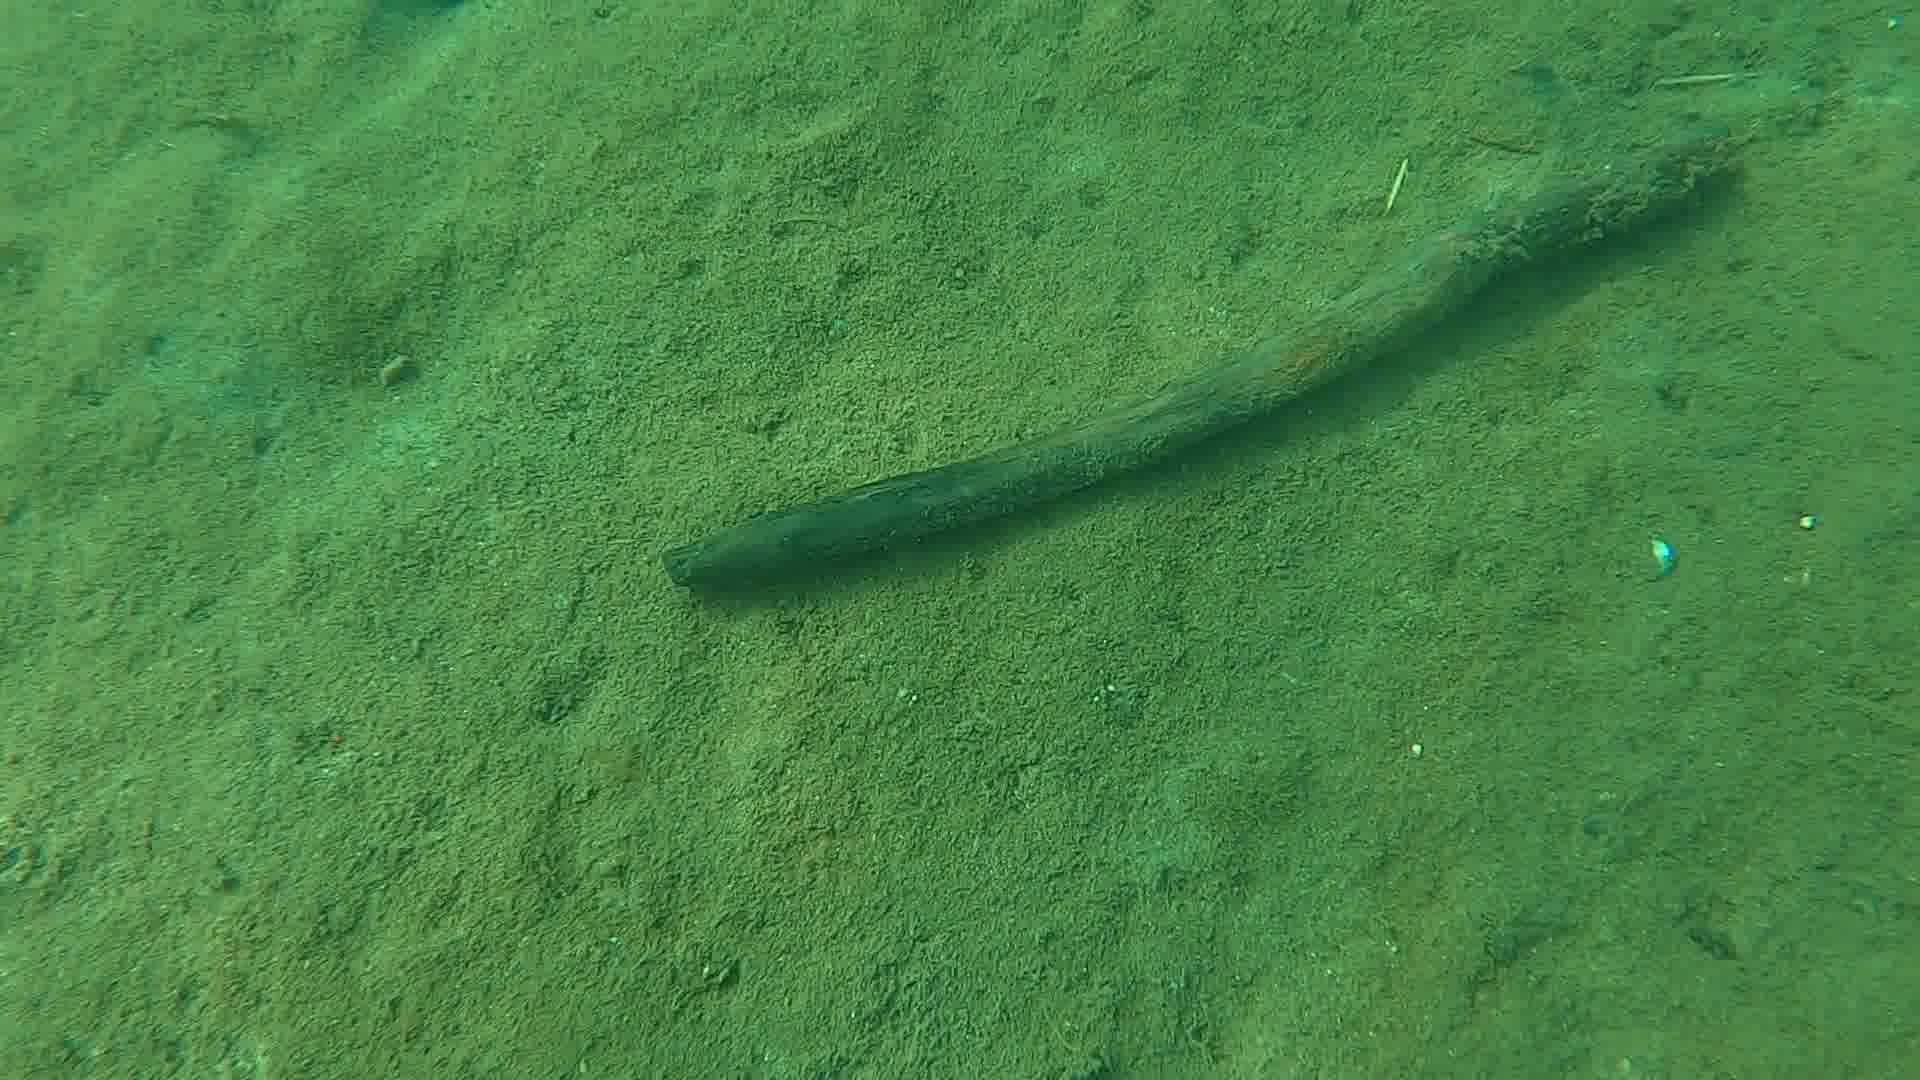wood: (659, 135, 1747, 588)
